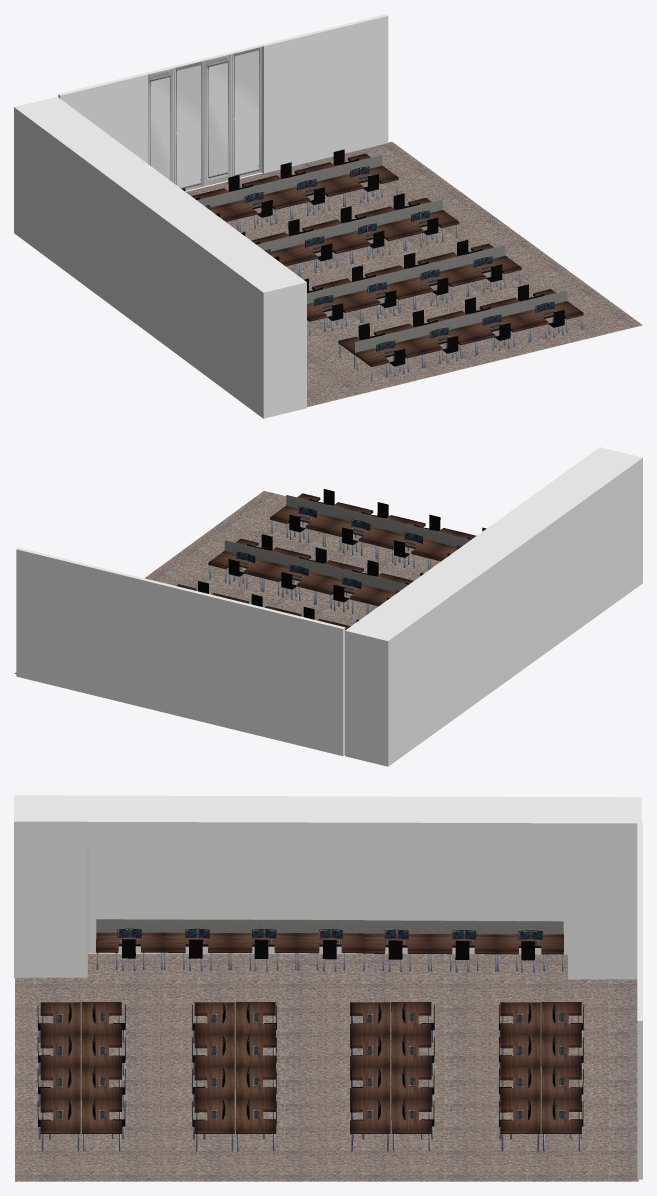
Rendered from office with indented wall.FBX.
3 renders of one model, top to bottom at view 1: azimuth 30°, elevation 25°; view 2: azimuth 150°, elevation 25°; view 3: azimuth 270°, elevation 25°, orthographic. The views are drawn at different scales.
Visible parts, largest first — view 1: Box209, Box208, Plane001, Table1, Table27, Table12, Table3, Table4, Table10, Table2, Table11, Table26 (+7 smaller); view 2: Box209, Box208, Plane001, Table13, Table5, Table15, Table14, Table6, Table7, Box131, Box153, Box133 (+3 smaller); view 3: Plane001, Box209, Box208, Table25, Table12, Table4, Table17, Table32, Table24, Table13, Table5, Table20 (+37 smaller).
Part boxes in pixels (<box>): Box209: <box>14,96,306,418</box>; Box208: <box>58,14,388,191</box>; Plane001: <box>186,141,642,406</box>; Table1: <box>355,340,424,366</box>; Table27: <box>223,191,292,218</box>; Table12: <box>453,255,521,282</box>; Table3: <box>461,314,530,340</box>; Table4: <box>514,301,583,327</box>; Table10: <box>347,281,415,308</box>; Table2: <box>409,327,477,353</box>; Table11: <box>400,268,468,295</box>; Table26: <box>276,178,345,205</box>; Box209: <box>345,447,642,766</box>; Box208: <box>16,547,345,756</box>; Plane001: <box>14,491,440,673</box>; Table13: <box>208,550,276,577</box>; Table5: <box>270,505,338,532</box>; Table15: <box>314,576,382,603</box>; Table14: <box>261,563,330,590</box>; Table6: <box>323,518,391,545</box>; Table7: <box>376,531,444,558</box>; Box131: <box>224,540,277,563</box>; Box153: <box>286,495,339,518</box>; Box133: <box>330,566,382,589</box>; Plane001: <box>15,954,638,1181</box>; Box209: <box>14,795,641,979</box>; Box208: <box>637,822,642,1179</box>; Table25: <box>500,1098,540,1133</box>; Table12: <box>194,1098,234,1133</box>; Table4: <box>40,1098,80,1133</box>; Table17: <box>350,1098,390,1133</box>; Table32: <box>541,1098,581,1133</box>; Table24: <box>391,1098,431,1133</box>; Table13: <box>236,1098,276,1133</box>; Table5: <box>82,1098,121,1133</box>; Table20: <box>350,1002,390,1034</box>.
Size of the model in its own units: 185 by 59.84 by 214.
